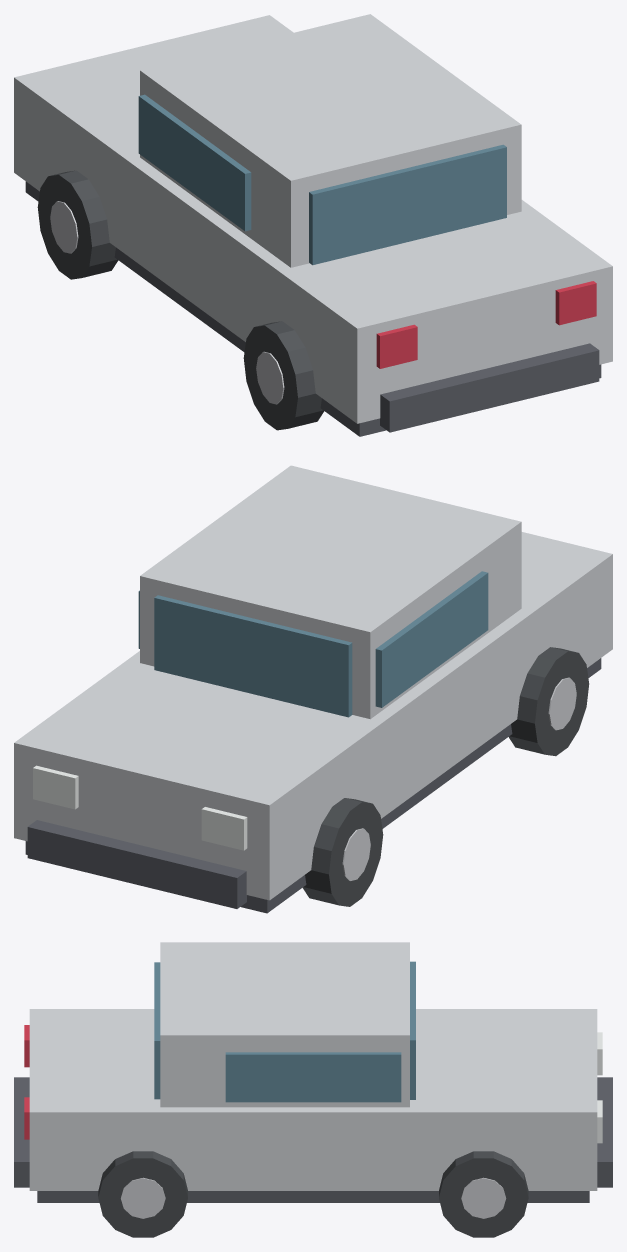
File: celta.glb
3 views of the same model, one above another, from view 1: azimuth 30°, elevation 25°; view 2: azimuth 150°, elevation 25°; view 3: azimuth 270°, elevation 25° (orthographic). The views are drawn at different scales.
Parts seen in each view (by area): view 1: BODY_main, BODY_cabin, WINDOW_rear, BODY_bumper_rear, WINDOW_side_-1, WHEEL_-1_1.137, WHEEL_-1_-1.137, BODY_lower, LIGHT_rear_1, LIGHT_rear_-1, WHEEL_-1_1.137_hub, WHEEL_-1_-1.137_hub; view 2: BODY_main, BODY_cabin, WINDOW_front, BODY_bumper_front, WINDOW_side_-1, WHEEL_-1_1.137, WHEEL_-1_-1.137, BODY_lower, LIGHT_front_-1, LIGHT_front_1, WHEEL_-1_1.137_hub, WHEEL_-1_-1.137_hub; view 3: BODY_main, BODY_cabin, WINDOW_side_1, WHEEL_1_-1.137, WHEEL_1_1.137, BODY_lower, BODY_bumper_rear, BODY_bumper_front, WHEEL_1_-1.137_hub, WHEEL_1_1.137_hub, WINDOW_rear, WINDOW_front.
Boxes of the visible parts, x1=… form: BODY_main: x1=14, y1=15, x2=612, y2=423; BODY_cabin: x1=140, y1=14, x2=521, y2=267; WINDOW_rear: x1=309, y1=144, x2=506, y2=265; BODY_bumper_rear: x1=380, y1=343, x2=599, y2=432; WINDOW_side_-1: x1=138, y1=94, x2=251, y2=231; WHEEL_-1_1.137: x1=243, y1=321, x2=324, y2=430; WHEEL_-1_-1.137: x1=37, y1=170, x2=118, y2=279; BODY_lower: x1=25, y1=181, x2=601, y2=436; LIGHT_rear_1: x1=555, y1=281, x2=596, y2=325; LIGHT_rear_-1: x1=376, y1=324, x2=417, y2=368; WHEEL_-1_1.137_hub: x1=256, y1=351, x2=284, y2=404; WHEEL_-1_-1.137_hub: x1=50, y1=201, x2=78, y2=253; BODY_main: x1=14, y1=532, x2=612, y2=900; BODY_cabin: x1=140, y1=465, x2=521, y2=719; WINDOW_front: x1=154, y1=595, x2=352, y2=717; BODY_bumper_front: x1=27, y1=820, x2=246, y2=908; WINDOW_side_-1: x1=375, y1=571, x2=488, y2=707; WHEEL_-1_1.137: x1=509, y1=647, x2=589, y2=756; WHEEL_-1_-1.137: x1=302, y1=798, x2=383, y2=906; BODY_lower: x1=25, y1=658, x2=601, y2=913; LIGHT_front_-1: x1=201, y1=807, x2=247, y2=850; LIGHT_front_1: x1=33, y1=765, x2=78, y2=809; WHEEL_-1_1.137_hub: x1=548, y1=677, x2=576, y2=730; WHEEL_-1_-1.137_hub: x1=342, y1=828, x2=370, y2=880; BODY_main: x1=29, y1=1009, x2=597, y2=1190; BODY_cabin: x1=160, y1=942, x2=409, y2=1107; WINDOW_side_1: x1=225, y1=1052, x2=401, y2=1102; WHEEL_1_-1.137: x1=439, y1=1151, x2=528, y2=1237; WHEEL_1_1.137: x1=98, y1=1151, x2=187, y2=1237; BODY_lower: x1=37, y1=1191, x2=589, y2=1202; BODY_bumper_rear: x1=14, y1=1077, x2=29, y2=1187; BODY_bumper_front: x1=597, y1=1077, x2=612, y2=1187; WHEEL_1_-1.137_hub: x1=461, y1=1177, x2=506, y2=1218; WHEEL_1_1.137_hub: x1=120, y1=1177, x2=165, y2=1218; WINDOW_rear: x1=154, y1=962, x2=160, y2=1099; WINDOW_front: x1=410, y1=961, x2=415, y2=1099.
Size of the model in its own units: 1.87 by 1.4 by 4.
